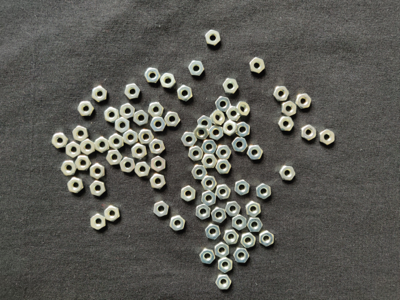nut: (67, 177, 84, 194), (51, 133, 69, 149), (90, 163, 106, 180), (92, 86, 108, 103), (106, 150, 123, 166), (160, 73, 177, 89), (170, 215, 186, 232), (181, 132, 198, 148), (215, 97, 232, 113), (250, 57, 266, 74), (233, 248, 250, 264), (240, 232, 256, 249), (256, 183, 272, 200), (247, 145, 264, 161), (273, 86, 290, 102), (77, 101, 95, 116), (320, 129, 335, 147), (61, 160, 77, 176), (73, 126, 89, 142), (90, 214, 106, 230), (104, 206, 120, 222), (90, 181, 106, 197), (104, 107, 120, 123), (120, 157, 136, 173), (125, 84, 141, 100), (139, 129, 155, 145), (148, 102, 164, 118), (149, 139, 165, 155), (150, 174, 166, 190), (188, 146, 204, 162), (223, 78, 239, 94), (200, 249, 216, 265), (205, 224, 221, 240), (211, 208, 227, 224), (224, 230, 240, 246), (66, 142, 81, 159), (75, 156, 92, 171), (115, 117, 130, 134), (123, 129, 138, 146), (134, 110, 149, 127), (150, 117, 167, 132), (151, 156, 166, 173), (178, 85, 193, 102), (188, 61, 205, 76), (154, 201, 169, 218), (201, 140, 218, 155), (191, 165, 208, 180), (218, 257, 233, 274), (223, 120, 238, 137), (279, 166, 296, 181), (95, 137, 110, 153), (109, 134, 124, 150), (120, 104, 135, 120), (145, 68, 161, 83), (132, 144, 147, 160), (135, 162, 151, 177), (165, 112, 181, 127), (206, 30, 221, 46), (181, 186, 196, 202), (194, 125, 210, 140), (210, 110, 225, 126), (216, 275, 232, 290), (196, 204, 211, 220), (216, 184, 231, 200), (232, 215, 247, 231), (225, 202, 241, 217), (247, 218, 263, 233), (246, 202, 261, 218), (235, 180, 250, 196), (232, 138, 248, 153), (282, 101, 297, 117), (296, 94, 312, 109), (302, 125, 317, 141), (81, 139, 95, 156), (215, 242, 229, 259), (201, 177, 218, 191), (278, 117, 295, 131), (226, 106, 241, 121), (235, 102, 250, 117), (202, 155, 218, 169), (210, 125, 224, 141), (202, 191, 216, 207), (216, 145, 232, 159), (260, 231, 274, 247), (236, 122, 250, 138), (198, 116, 213, 130), (216, 160, 231, 174)
